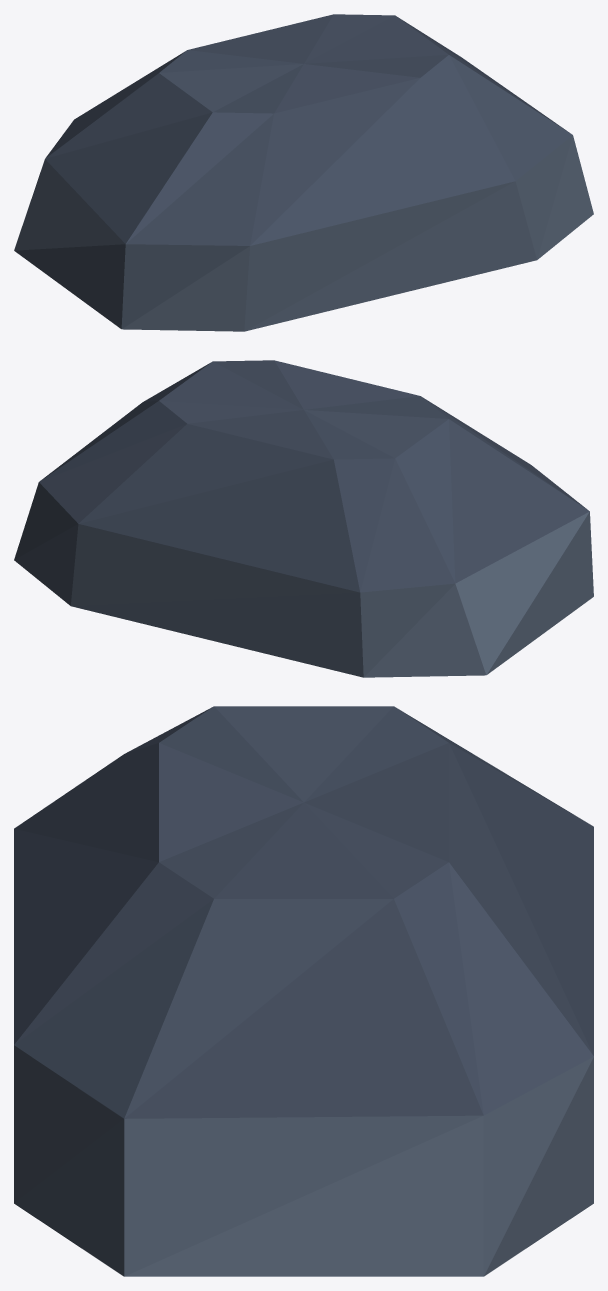
Rendered from wall_z1_rock_cap_top.glb.
3 views of the same model, one above another, from view 1: azimuth 30°, elevation 25°; view 2: azimuth 150°, elevation 25°; view 3: azimuth 270°, elevation 25° (orthographic). The views are drawn at different scales.
Visible parts, largest first — view 1: wall_z1_rock_cap_top; view 2: wall_z1_rock_cap_top; view 3: wall_z1_rock_cap_top.
Part boxes in pixels (x1,y1,x2,y2): wall_z1_rock_cap_top: [14, 14, 593, 331]; wall_z1_rock_cap_top: [14, 360, 593, 677]; wall_z1_rock_cap_top: [14, 706, 593, 1276].
Size of the model in its own units: 4.4 by 1.5 by 2.8.
